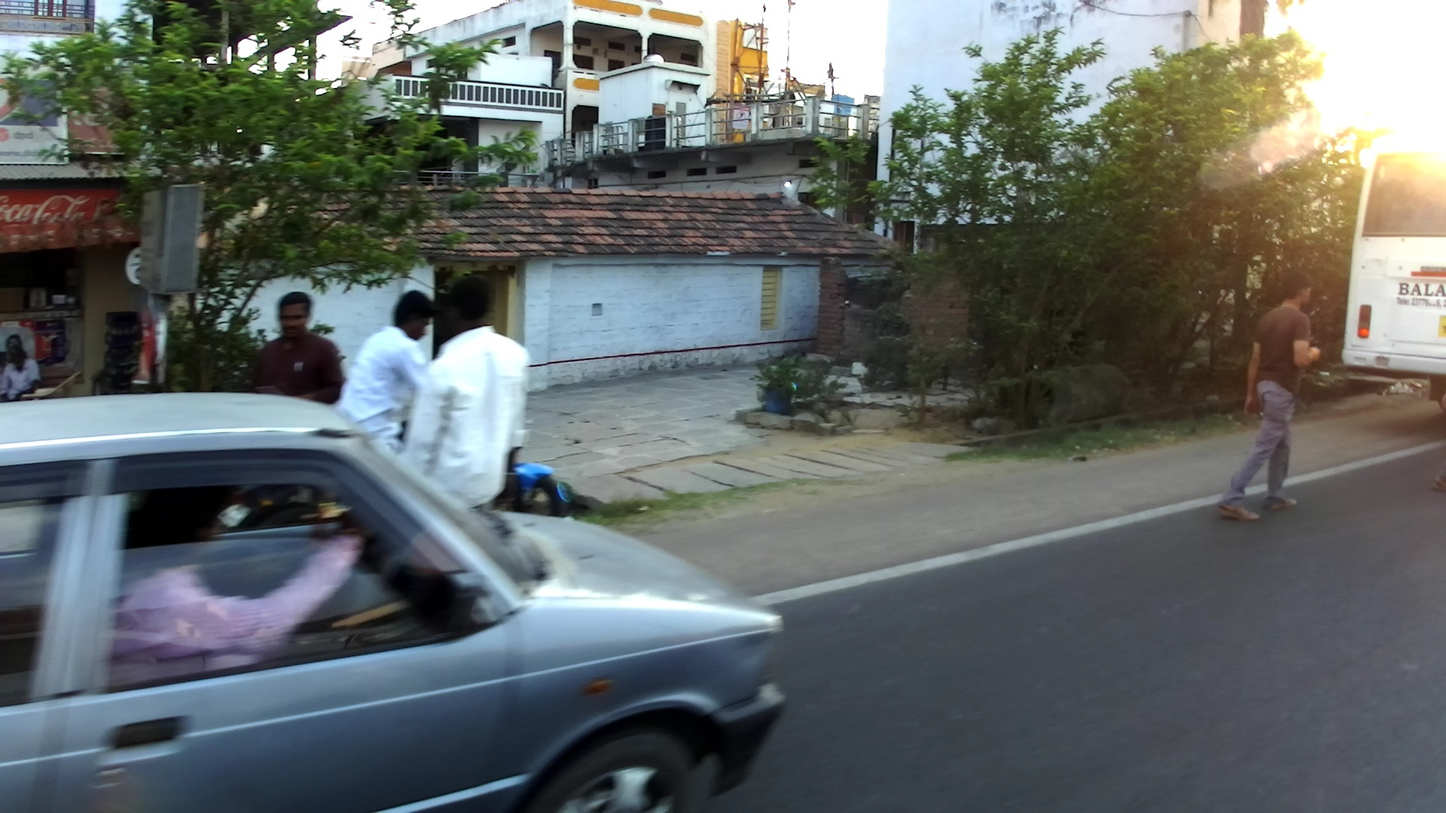bus: (1333, 142, 1444, 418)
car: (0, 391, 792, 812), (3, 343, 42, 401)
motorcycle: (506, 455, 571, 524)
person: (393, 269, 535, 509), (1207, 269, 1333, 521), (246, 296, 349, 404), (1426, 393, 1445, 499)
rider: (334, 287, 444, 472)
